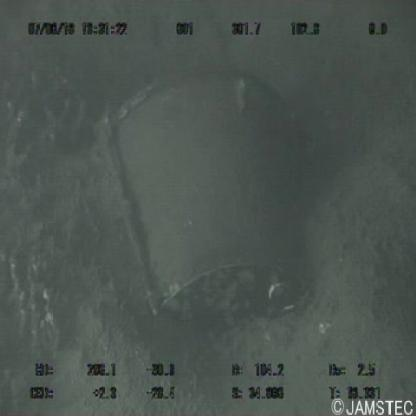Rác: (93, 62, 315, 338)
